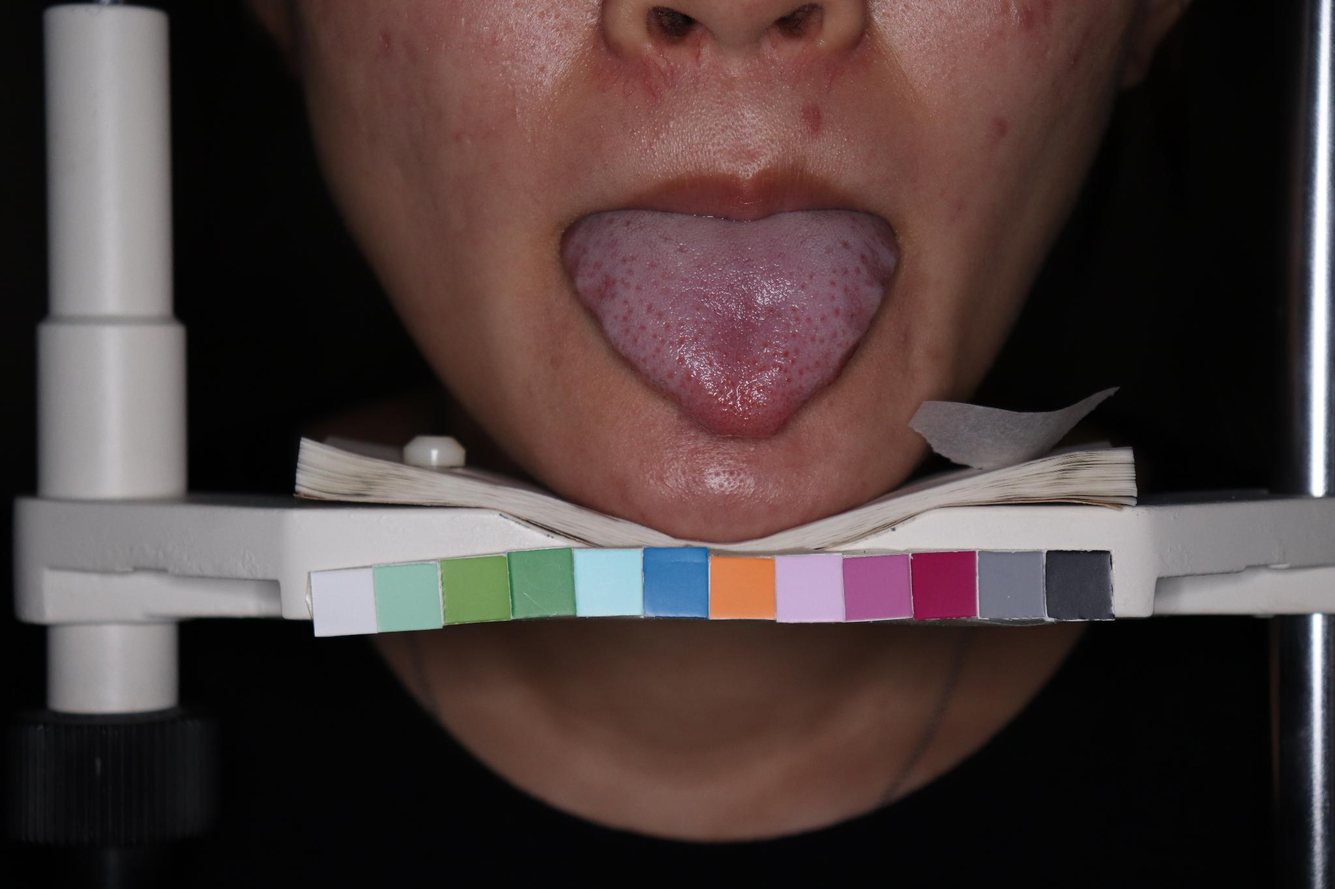baitaishe: (561, 208, 898, 439)
hongdianshe: (638, 321, 649, 332), (677, 335, 687, 346), (664, 371, 675, 380), (780, 350, 789, 360), (789, 305, 797, 314), (720, 351, 727, 360), (784, 376, 791, 384)
